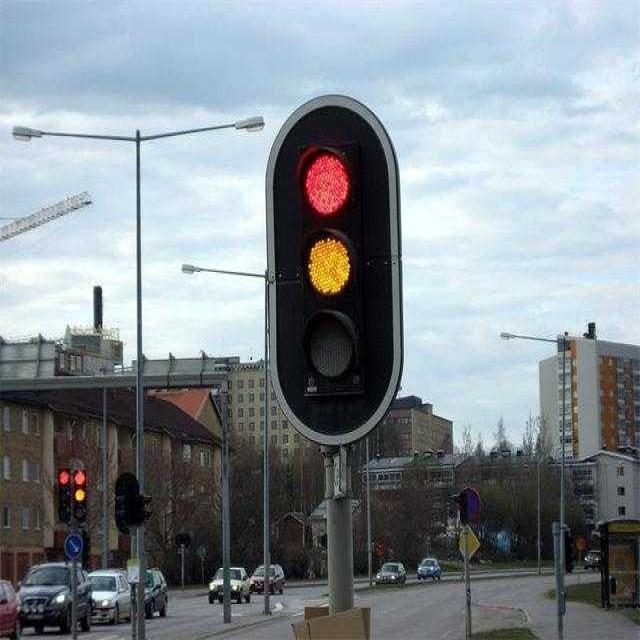Traffic Light -Green-: (291, 142, 356, 220)
Traffic Light -Yellow-: (290, 229, 373, 305)
